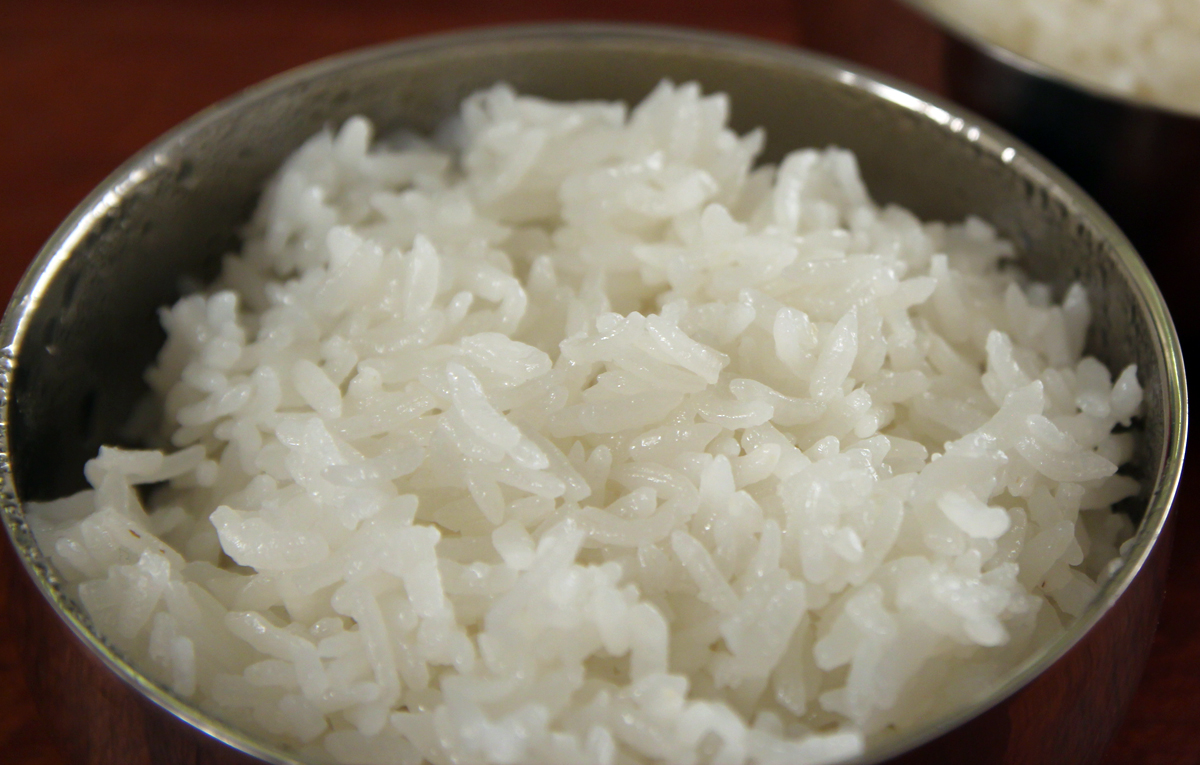rice: (51, 84, 1122, 737)
